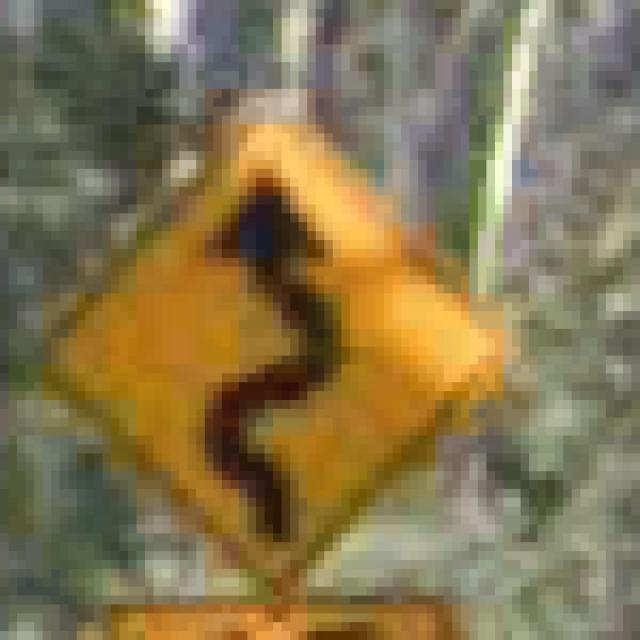Banyak Tikungan Pertama Kiri: (17, 98, 512, 596)
